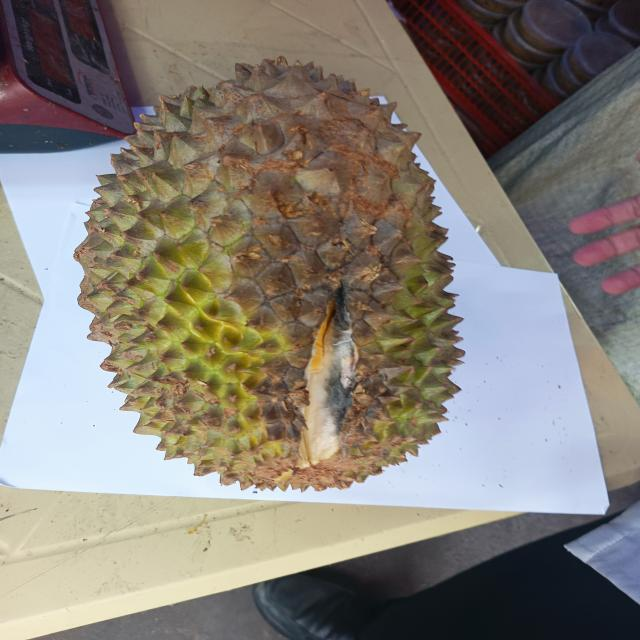defective: (75, 58, 463, 490)
